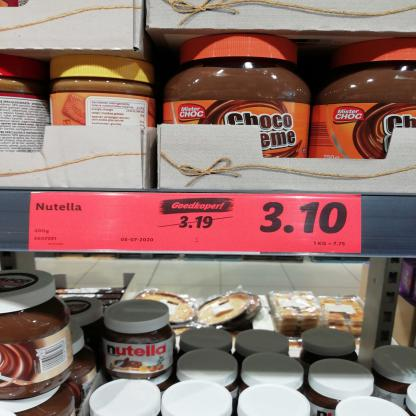prtg: (30, 192, 362, 254)
